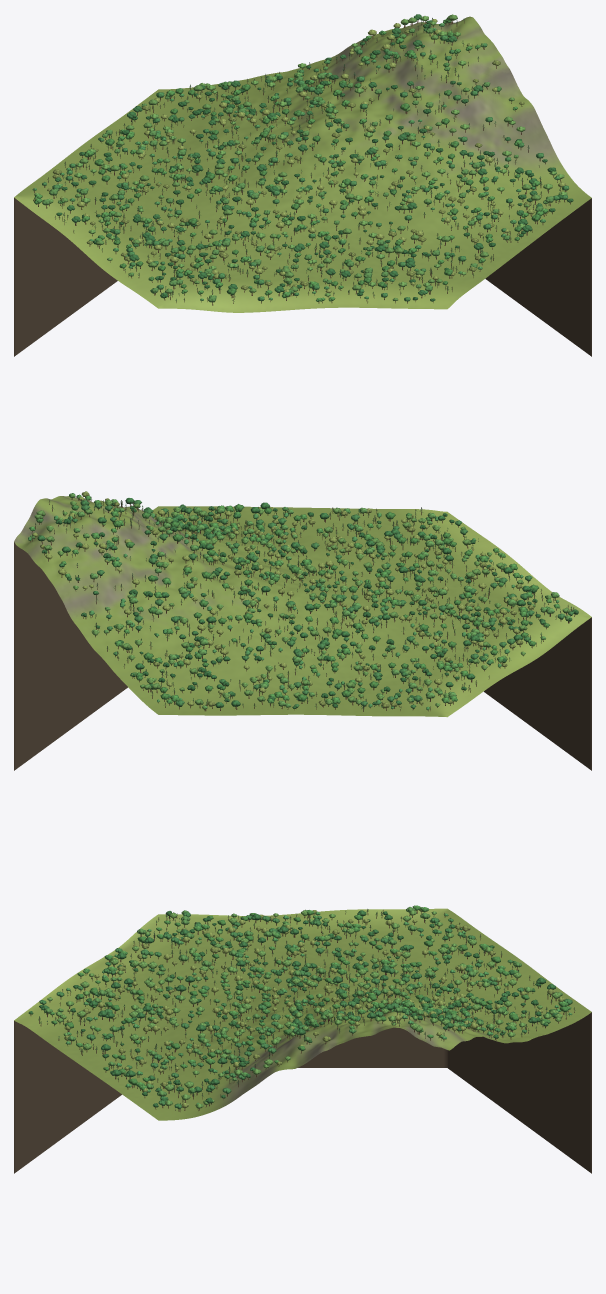
3 views of the same model, one above another, from view 1: azimuth 30°, elevation 25°; view 2: azimuth 150°, elevation 25°; view 3: azimuth 270°, elevation 25° (orthographic).
Parts seen in each view (by area): view 1: terrain, broadleaf_canopy, hex_side_cut, trunks, conifer_canopy; view 2: terrain, broadleaf_canopy, hex_side_cut, trunks, conifer_canopy; view 3: terrain, broadleaf_canopy, hex_side_cut, trunks, conifer_canopy.
Boxes of the visible parts, bbox=[...] form: terrain: bbox=[14, 16, 591, 312]; broadleaf_canopy: bbox=[32, 14, 573, 302]; hex_side_cut: bbox=[14, 197, 591, 356]; trunks: bbox=[34, 18, 570, 305]; conifer_canopy: bbox=[44, 18, 564, 301]; terrain: bbox=[14, 496, 591, 717]; broadleaf_canopy: bbox=[28, 491, 578, 710]; hex_side_cut: bbox=[14, 542, 591, 770]; trunks: bbox=[30, 495, 575, 711]; conifer_canopy: bbox=[32, 499, 573, 709]; terrain: bbox=[14, 908, 591, 1120]; broadleaf_canopy: bbox=[28, 905, 572, 1109]; hex_side_cut: bbox=[14, 1012, 591, 1173]; trunks: bbox=[30, 909, 574, 1111]; conifer_canopy: bbox=[38, 909, 575, 1109].
Size of the model in its own units: 4330 by 2433 by 5000.
Materials: 6 (1 with a texture image).
